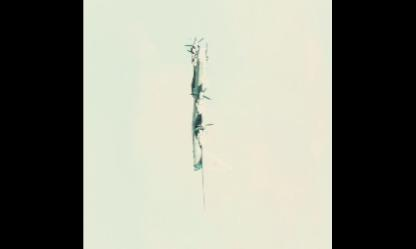Su57: (184, 34, 233, 214)
